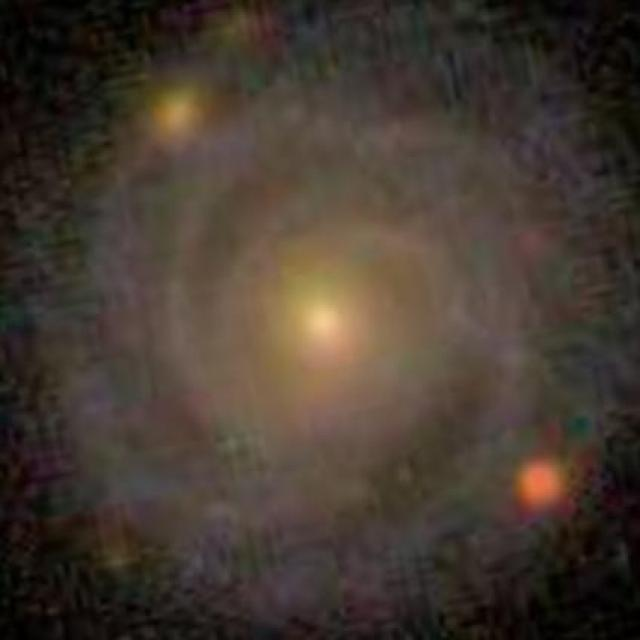galaxy: (1, 1, 635, 629), (124, 69, 218, 159), (507, 437, 579, 533)
